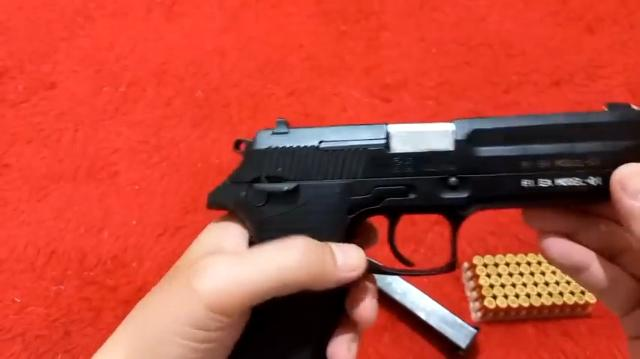pistol: (232, 101, 640, 358)
